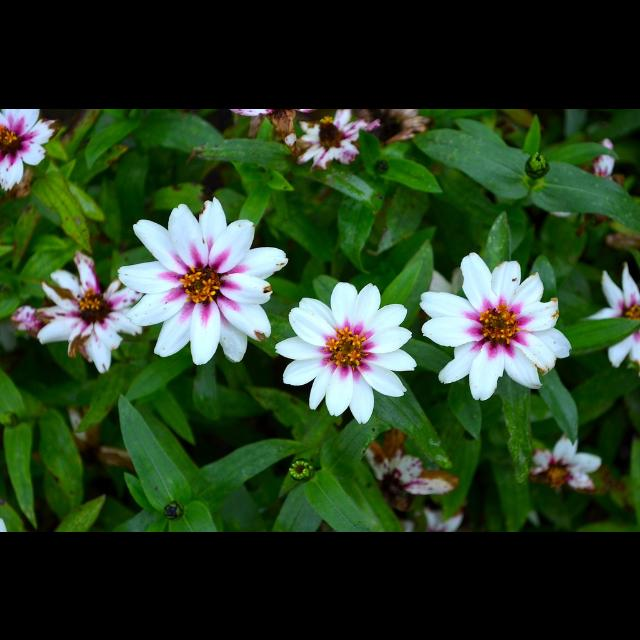Flower: (116, 194, 288, 368), (416, 250, 572, 400), (273, 278, 417, 427), (31, 253, 145, 371), (584, 261, 640, 365), (284, 108, 370, 172), (0, 108, 58, 192), (528, 432, 606, 491)
